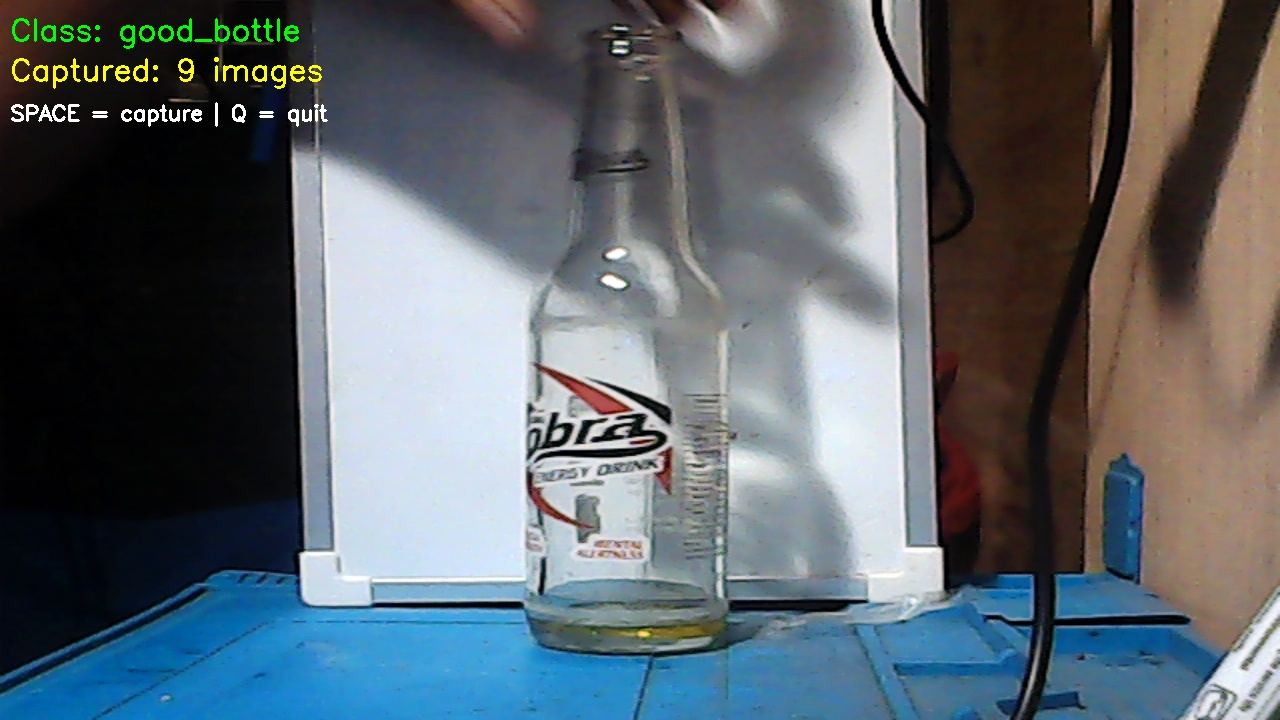good_bottle: (524, 24, 732, 650)
